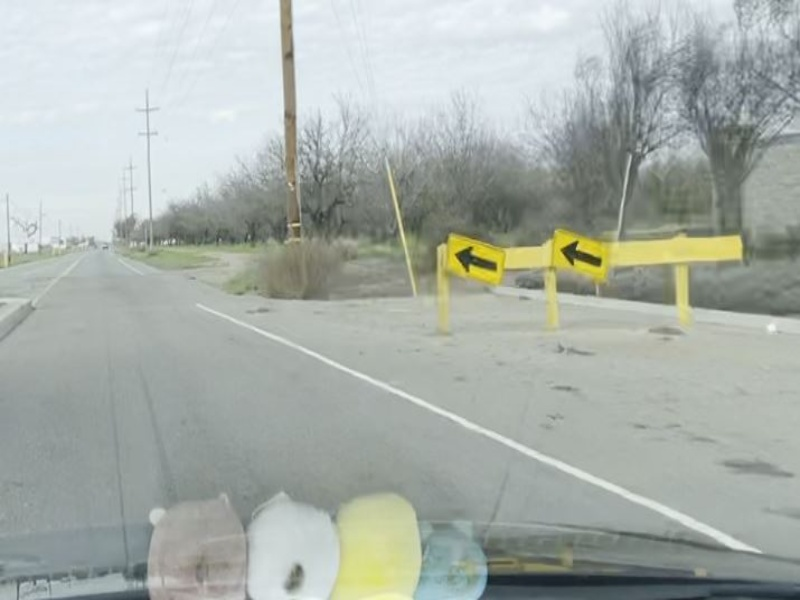merge sign: (546, 229, 613, 284), (444, 234, 506, 288)
